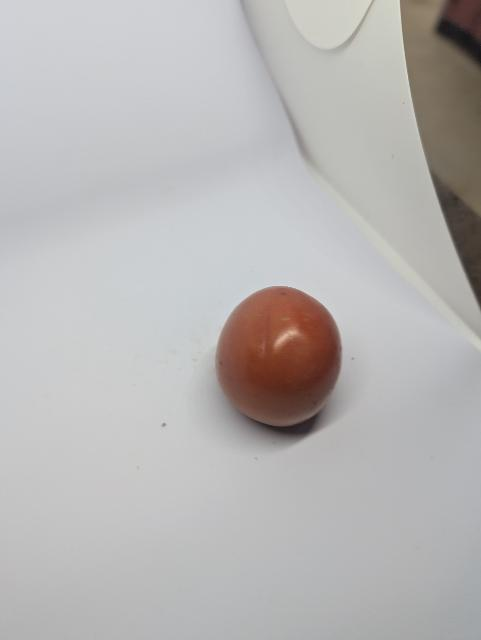red: (207, 280, 352, 438)
